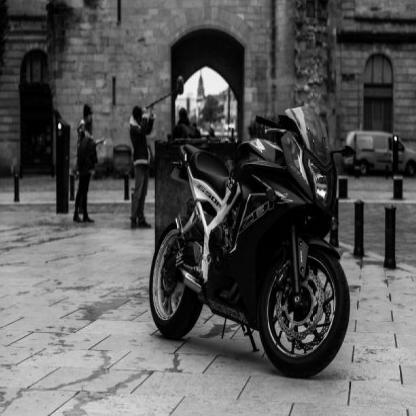Motorcycle: (146, 94, 355, 382)
